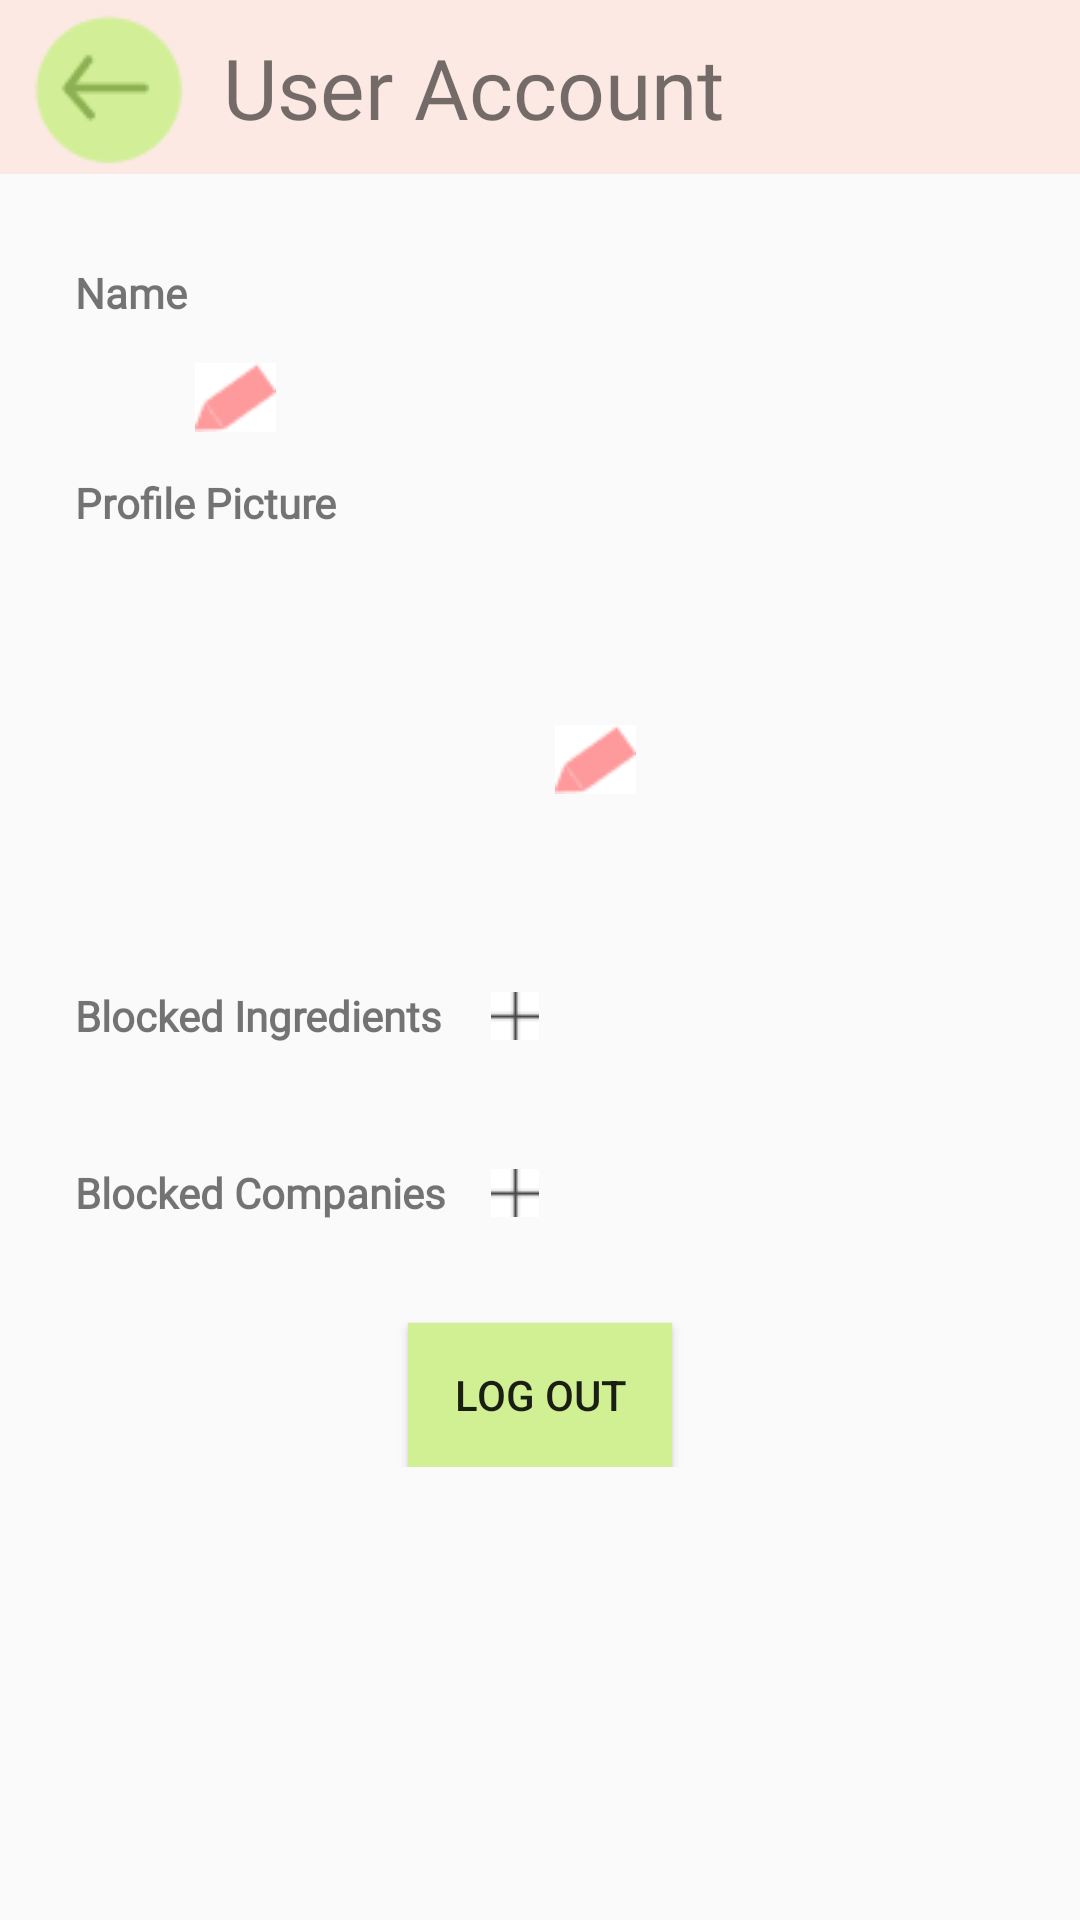

Point at icon controls on the screen. Image size 1080 × 1920, points as [x,y].
addbutton: [515,1016], [515,1193]
backarrowbutton: [108,89]
edit: [235,398], [595,760]
